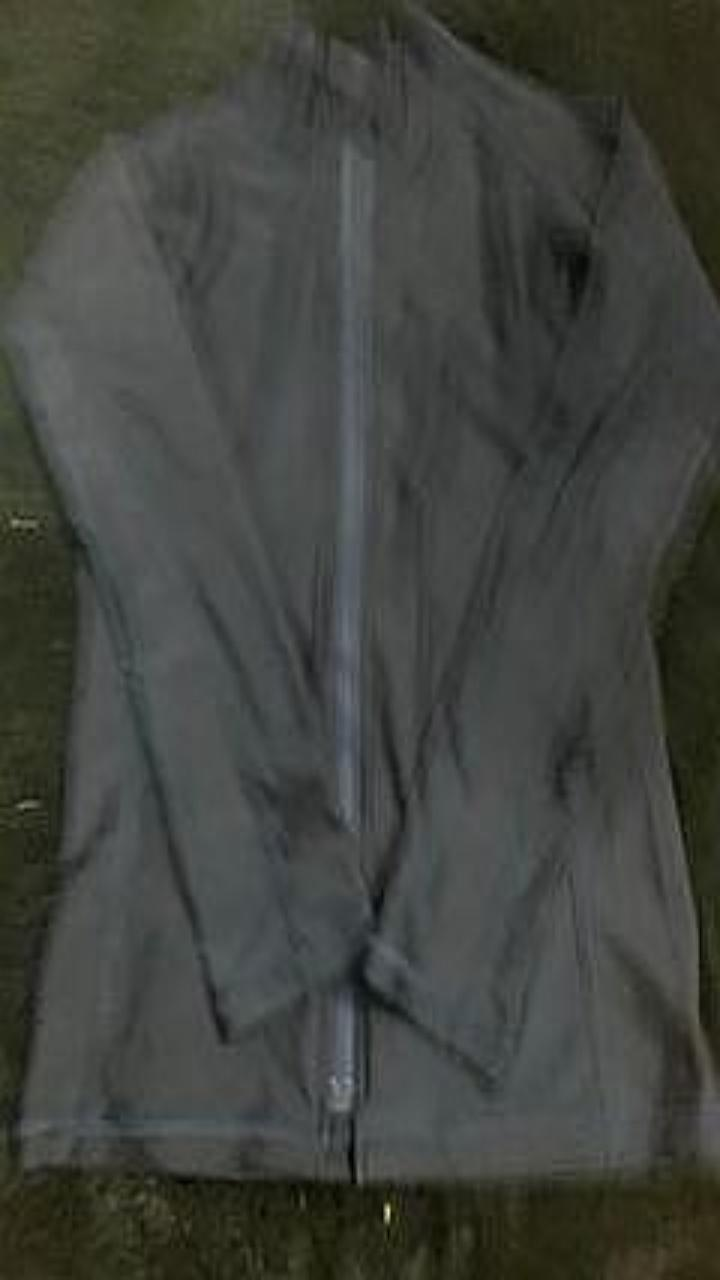Sports_Jacket: (2, 0, 719, 1182)
